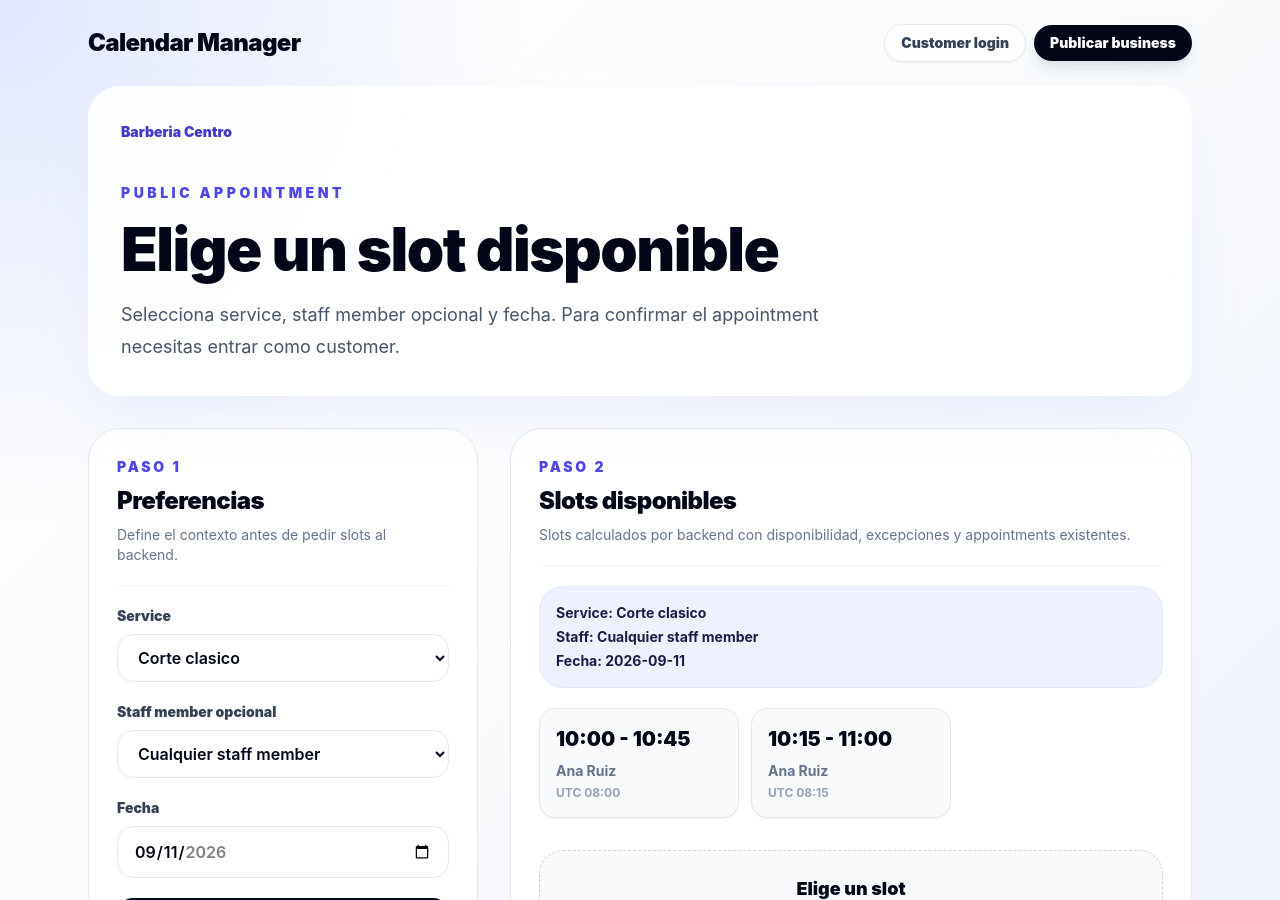
appointment slot flow page › shows outside-window state without fetching that date
Expected: the button "10:00 - 10:45 Ana Ruiz UTC 08:00" is shown, 539,708 -> 739,818
Type "2099-01-01" into the date field labelled "Fecha" at point(283, 852), box 117,826 -> 449,878
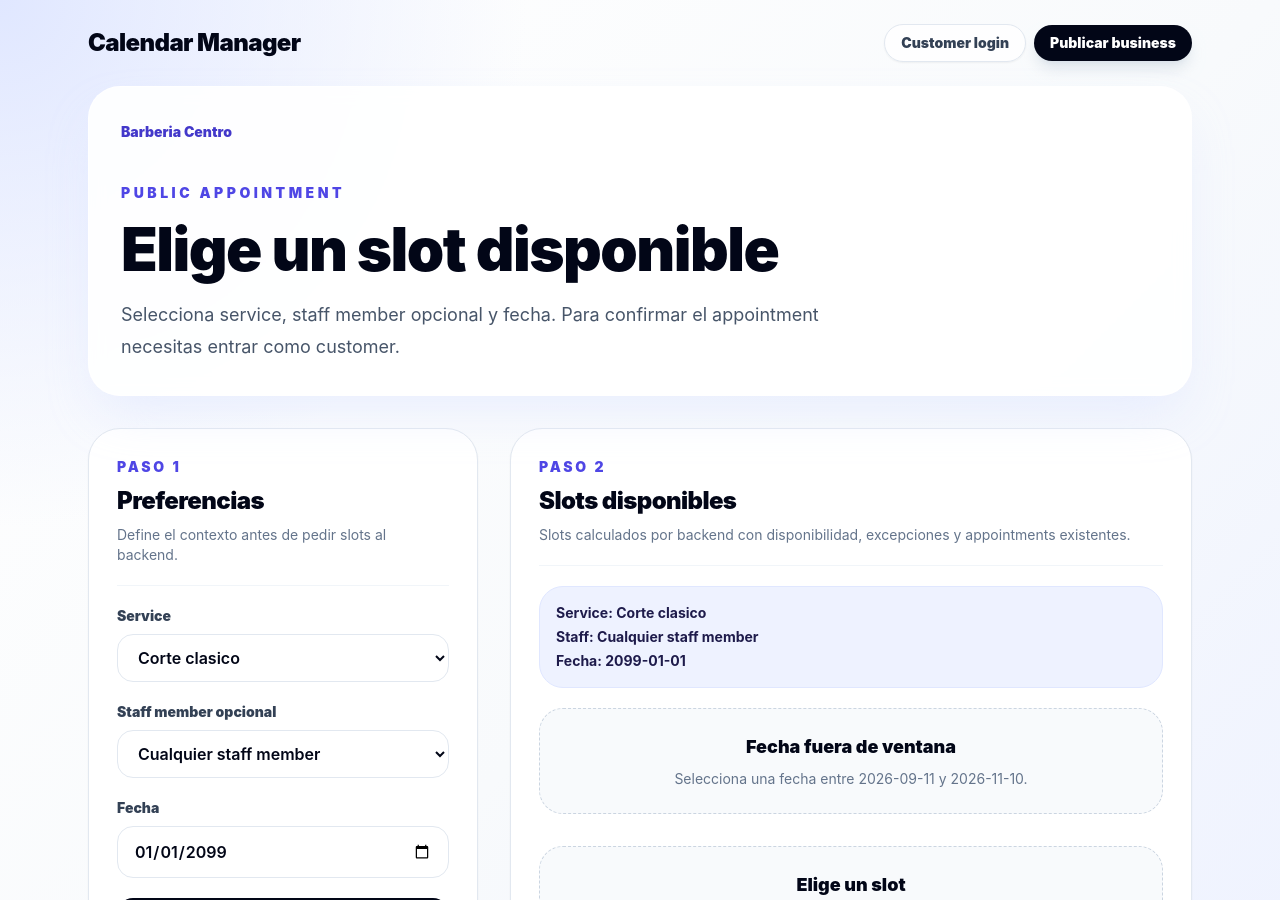
Expected: the heading "Fecha fuera de ventana" is shown, 746,736 -> 956,757
